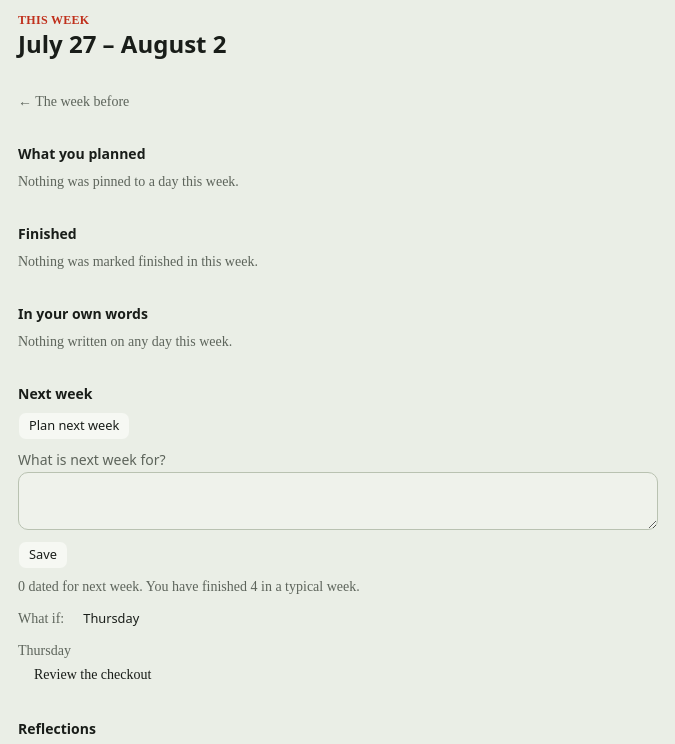
Test: ReviewRoute › asks what the week looks like without a day, and says what is displaced
Click the button with aria-label "Take out Thursday" at (111, 619), box [72,605,150,633]
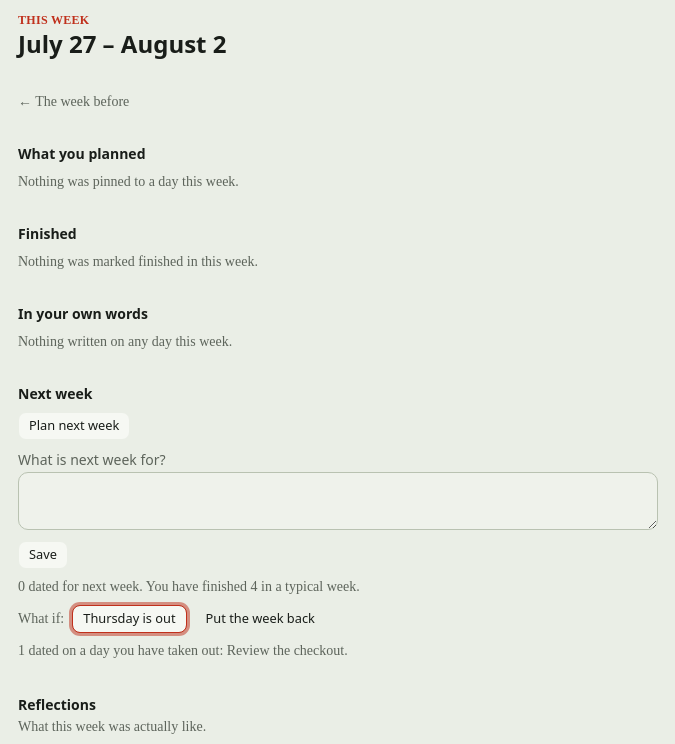
Expected: the text "1 dated on a day you have taken out: Review the checkout." is shown, [18,643,348,658]
